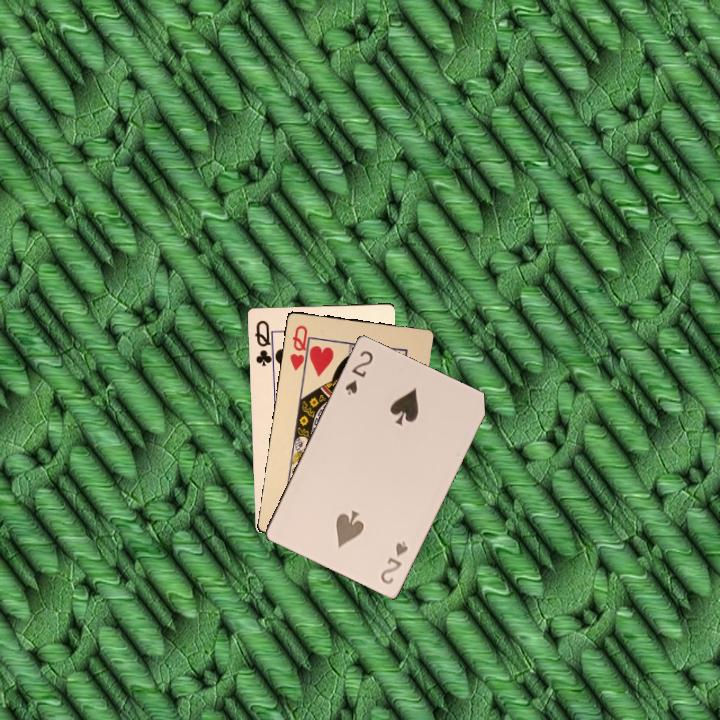2s: (341, 346, 376, 397), (376, 537, 411, 587)
Qc: (251, 316, 278, 369)
Qh: (285, 321, 313, 374)
